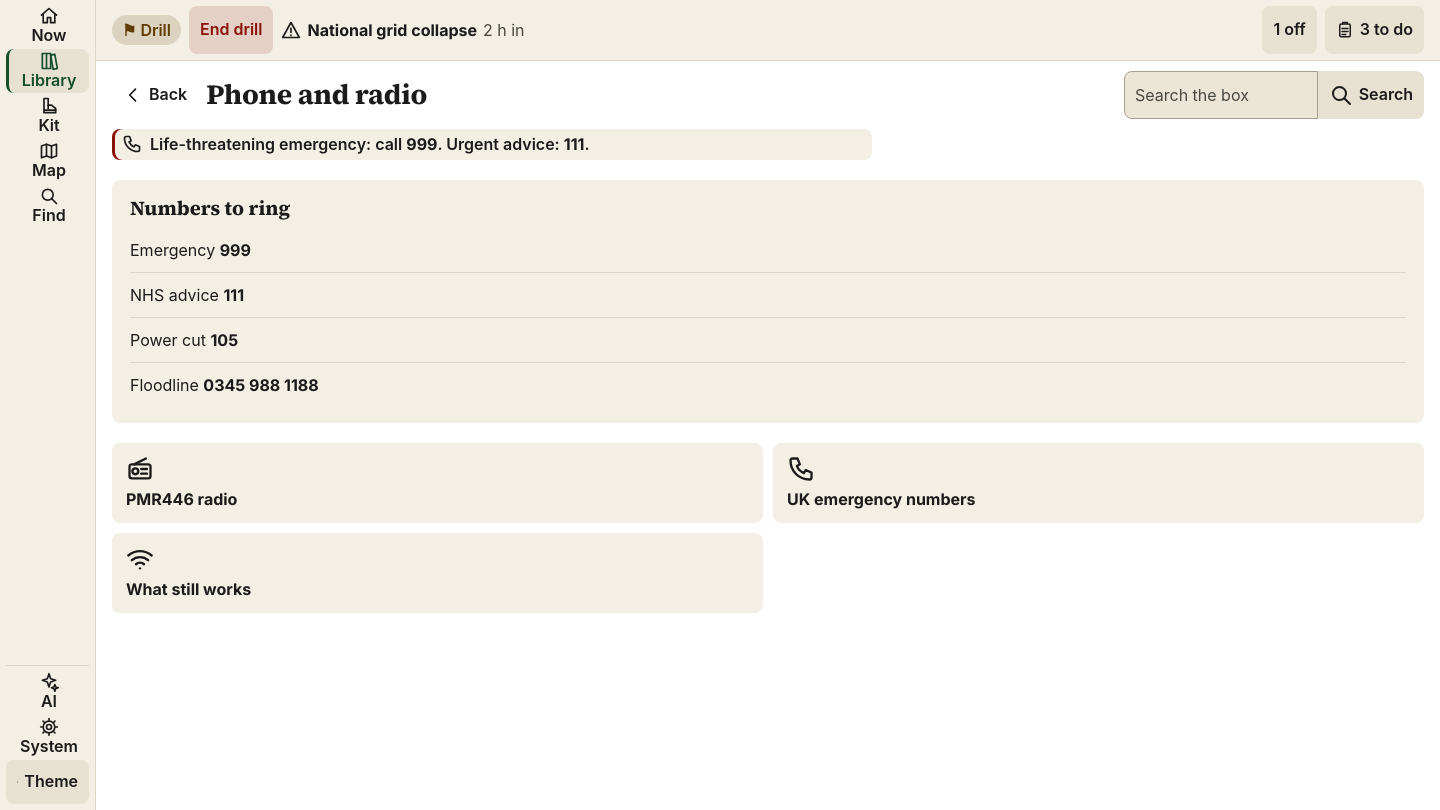
Test: the drill chrome › is one row in the band on every screen, and ends with a summary of what happened
The image size is (1440, 810).
Expected: the element named "Situation now" shows "Drill", [122,20,171,40]
Expected: the element named "Situation now" shows "National grid collapse", [282,18,525,42]
Click the button "End drill" at x=231, y=30, box [189,6,274,54]
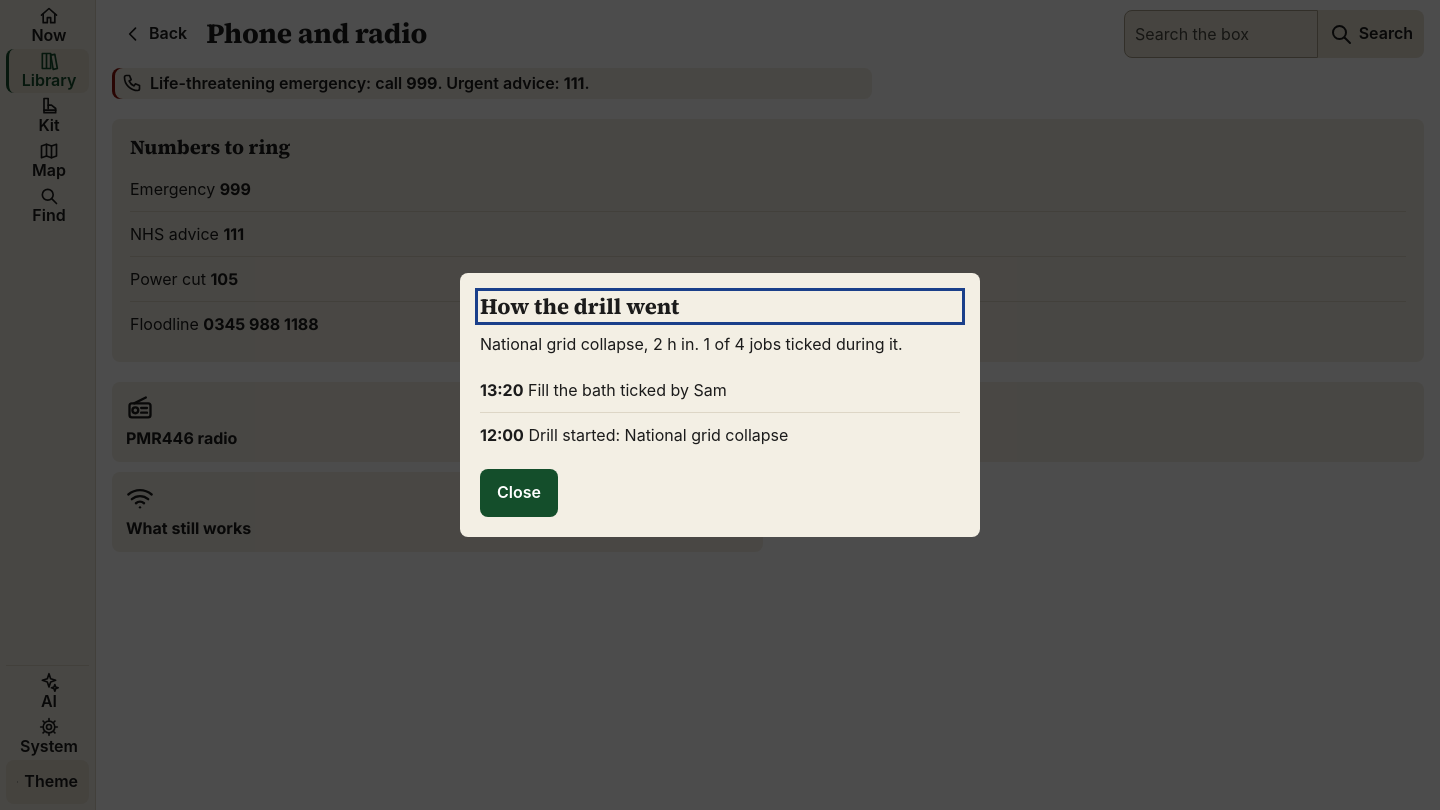
Expected: the list named "What happened in the drill" does not show "in the drill", [480,368,960,457]
Expected: the dialog "How the drill went" shows "National grid collapse, 2 h in.", [460,273,980,537]
Expected: the list named "What happened in the drill" shows "Fill the bath ticked by Sam", [528,380,727,400]
Click the button "Close" at x=519, y=493, box [480,469,558,517]
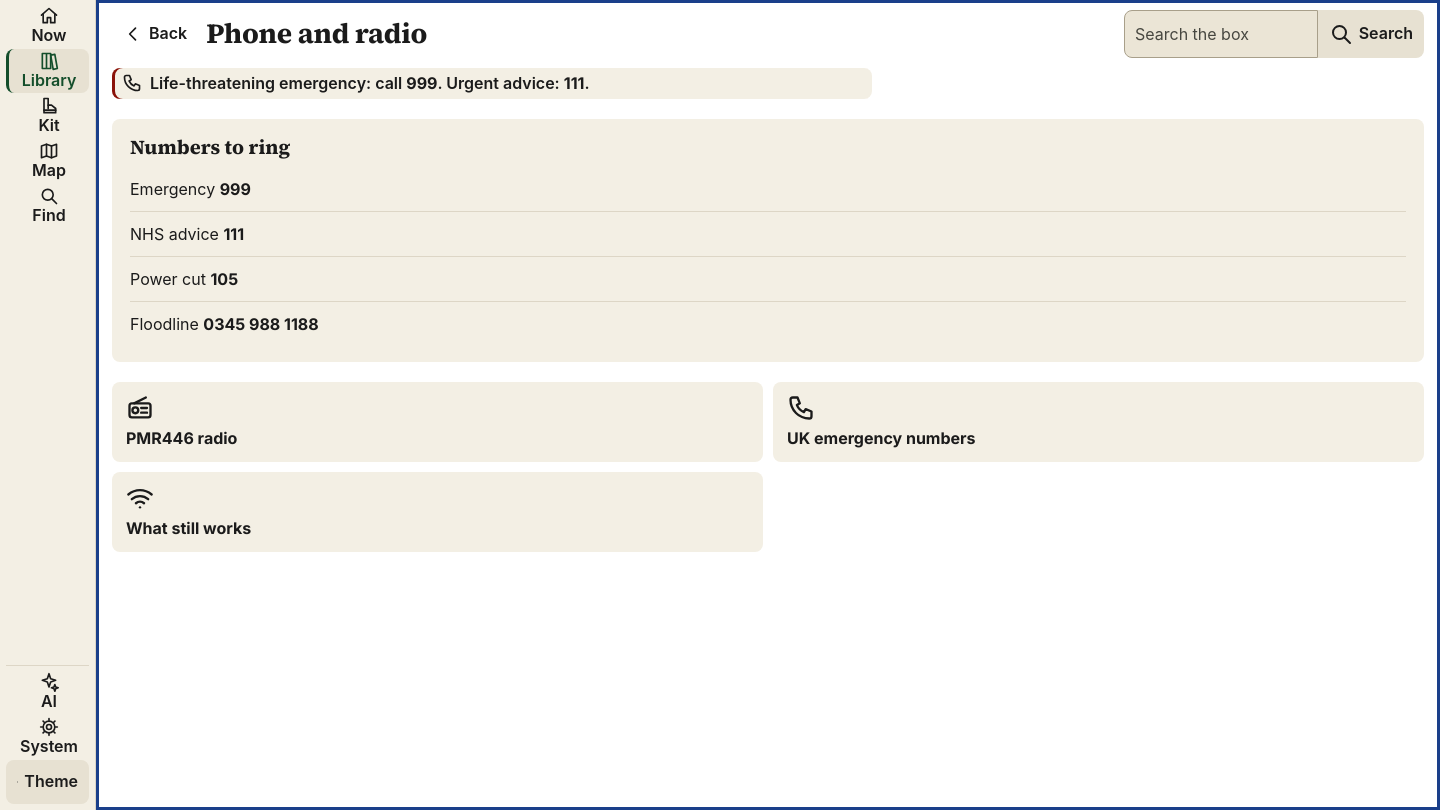
Expected: the heading "How the drill went" is gone
